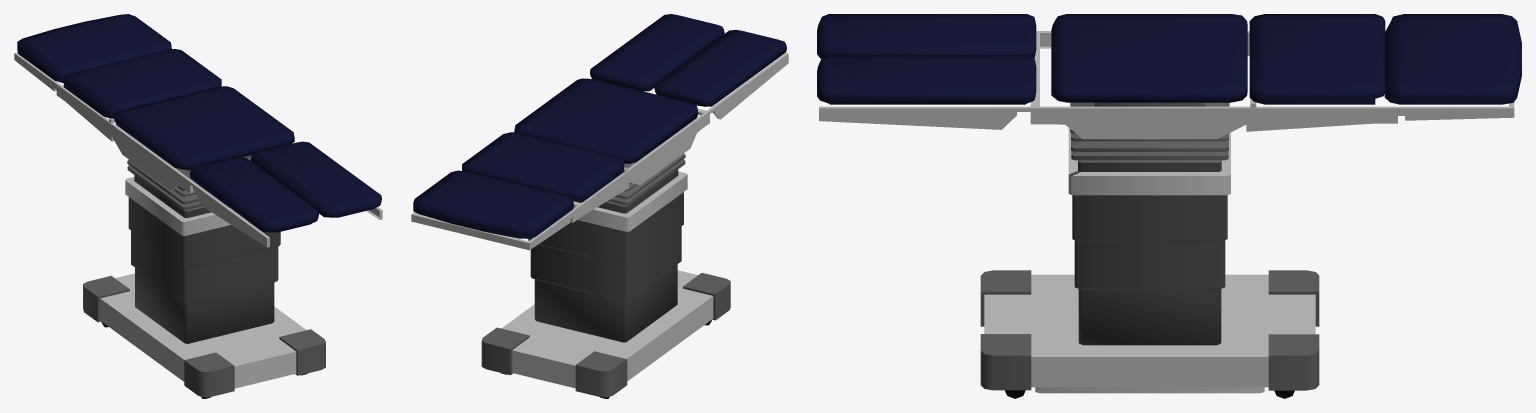
Rendered from Model_Camilla.fbx.
3 views of the same model, side by side, from view 1: azimuth 30°, elevation 25°; view 2: azimuth 150°, elevation 25°; view 3: azimuth 270°, elevation 25° (orthographic). The views are drawn at different scales.
Visible parts, largest first — view 1: Model_Bed_Cojines, Model_Bed, Model_Support; view 2: Model_Bed_Cojines, Model_Bed, Model_Support; view 3: Model_Bed, Model_Bed_Cojines, Model_Support.
Part boxes in pixels (x1,y1,x2,y2): Model_Bed_Cojines: (17,14,381,232); Model_Bed: (83,155,325,397); Model_Support: (14,52,382,247); Model_Bed_Cojines: (413,14,786,238); Model_Bed: (481,153,730,397); Model_Support: (411,53,788,250); Model_Bed: (980,102,1319,393); Model_Bed_Cojines: (817,14,1521,104); Model_Support: (819,31,1514,139).
Bounding box in the file's own units: 62.05 × 106 × 217.
